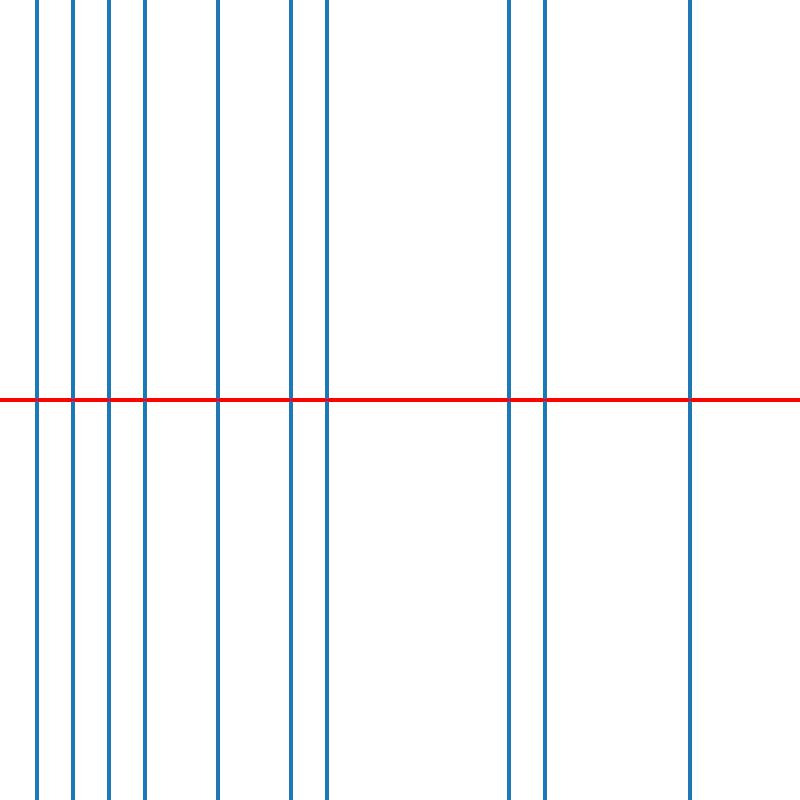root: (541, 396, 549, 404), (141, 396, 149, 404), (32, 396, 40, 404), (105, 396, 112, 404), (505, 396, 512, 404), (69, 396, 76, 404), (687, 396, 694, 404), (287, 396, 294, 404), (214, 396, 221, 404), (323, 396, 330, 404)
